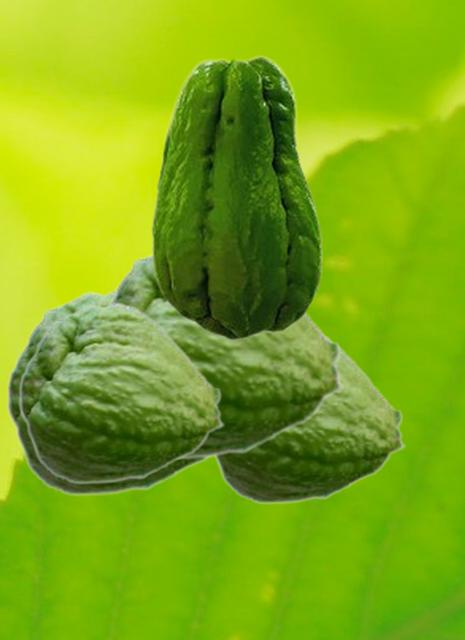sayote: (104, 250, 345, 460), (151, 54, 322, 340), (6, 288, 211, 496), (18, 301, 225, 484), (212, 333, 406, 504)
